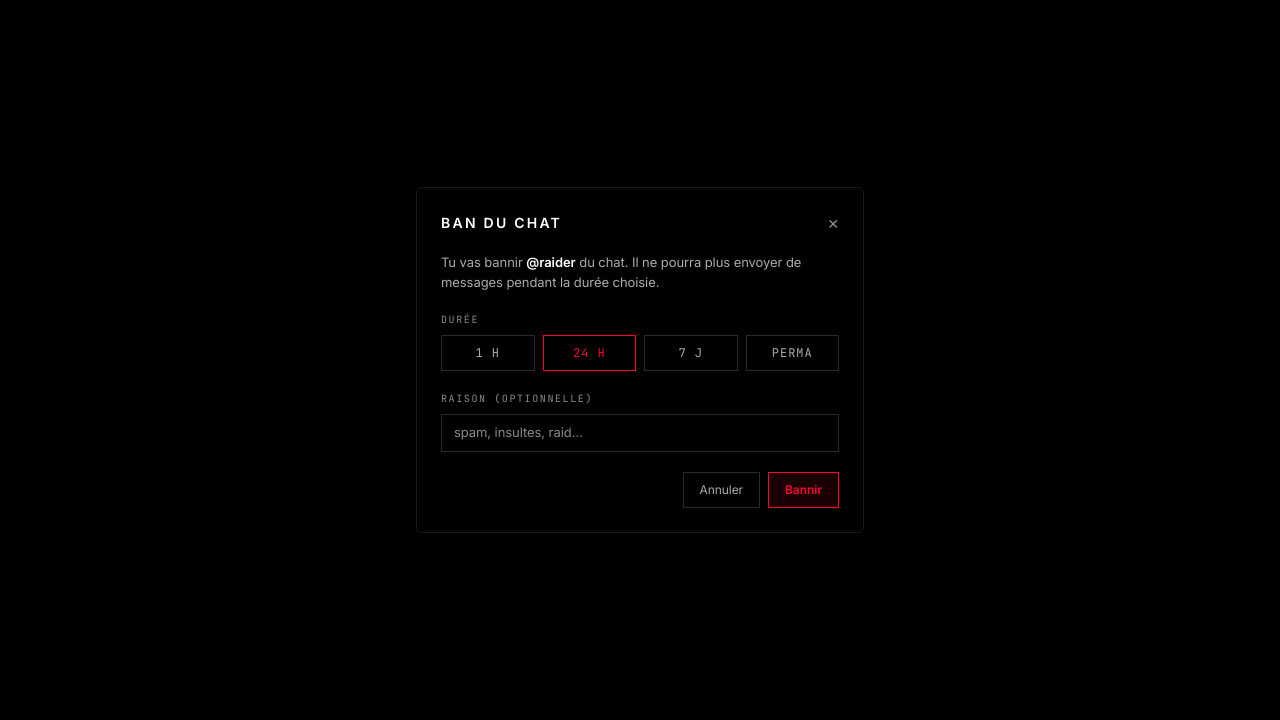
Test: BanUserDialog · soumission › affiche l'erreur Supabase et ne ferme pas le dialogue en cas d'échec
The image size is (1280, 720).
Click the button "Bannir". click: {"x": 804, "y": 490}
box: [768, 472, 839, 508]
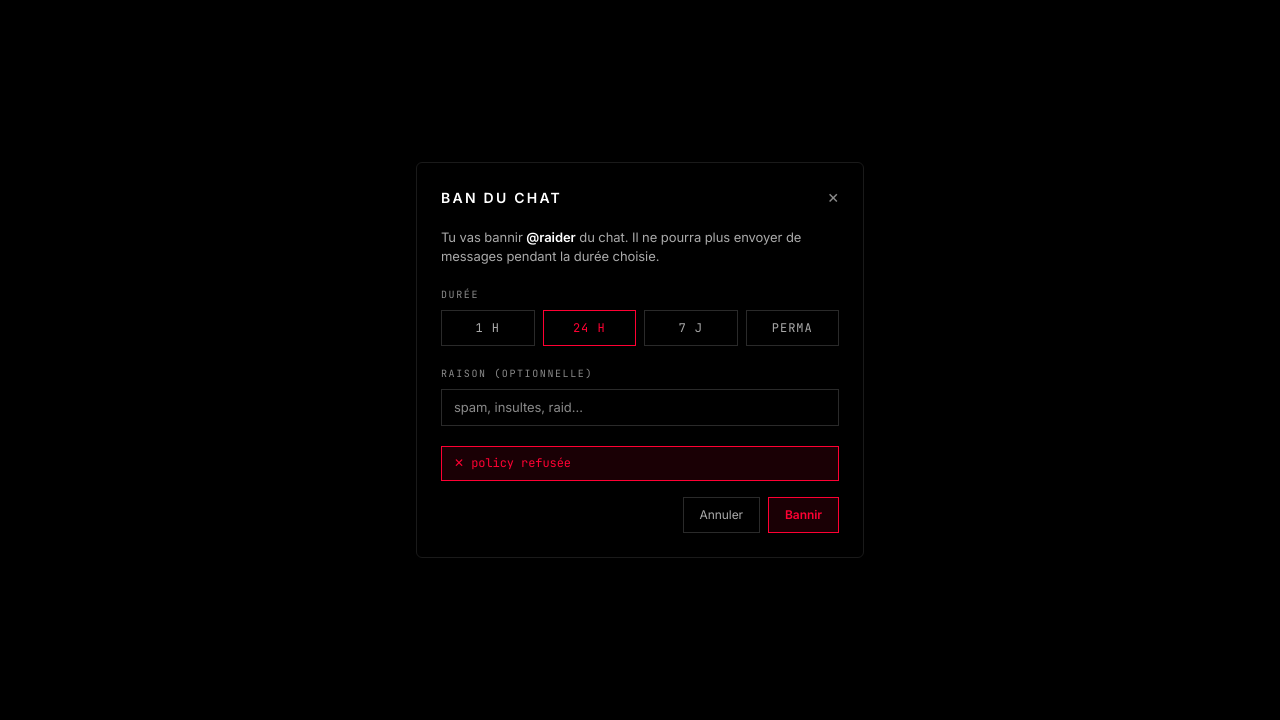
Now the text "✕ policy refusée" is shown, box [441, 446, 839, 481]
